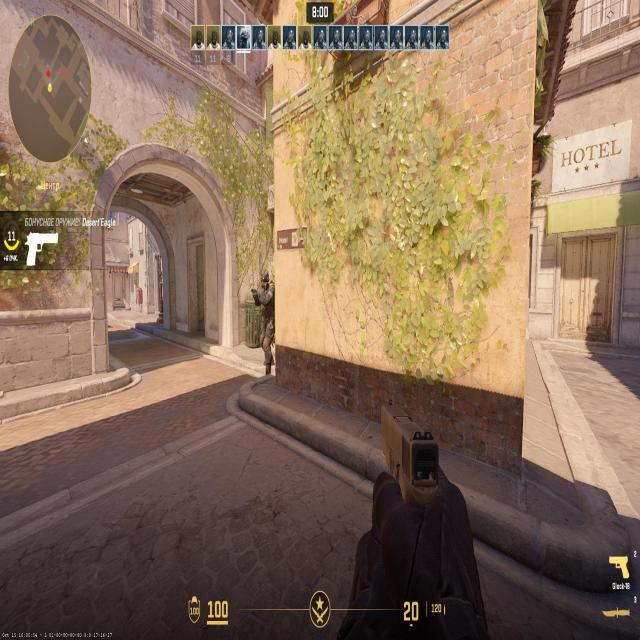CT: (259, 272, 274, 372)
CT_heat: (260, 271, 270, 290)
